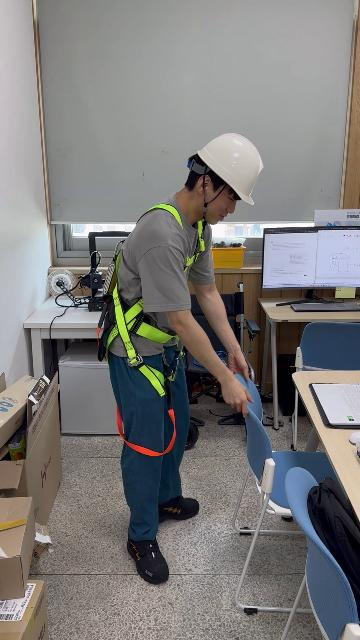helmet_worn: (196, 132, 264, 204)
shoe_worn: (127, 535, 169, 584), (157, 496, 198, 522)
vest_worn: (93, 216, 190, 449)
